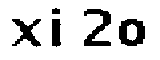2: (78, 4, 112, 49)
i: (48, 5, 66, 53)
o: (116, 17, 149, 51)
x: (10, 15, 45, 53)
